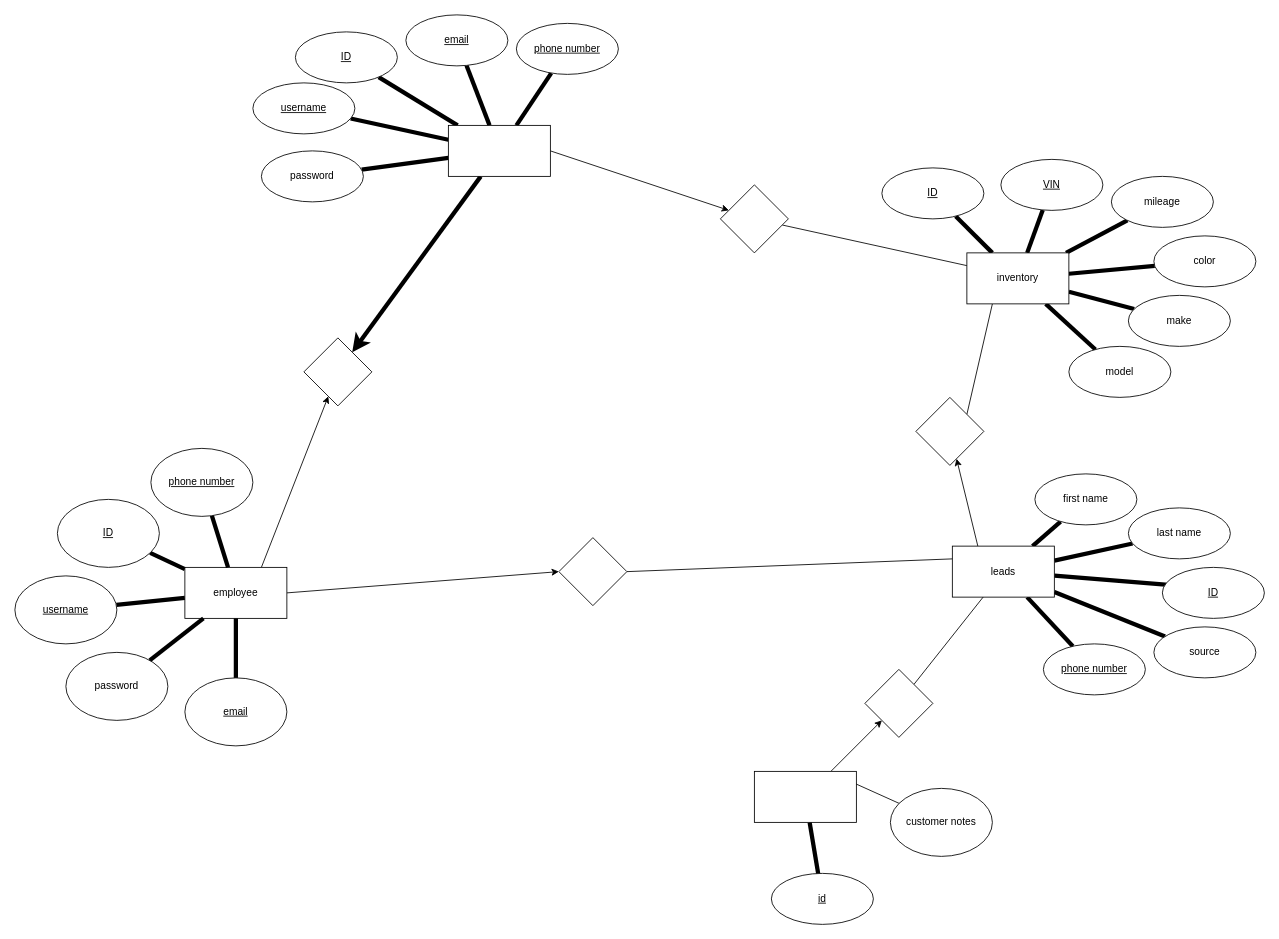
Image size: 1279x939. Some labels were removed from this diagram. Each missing label, with the box of its shape:
authorizes: (303, 337, 372, 406)
creates: (558, 537, 627, 606)
generates: (864, 669, 933, 737)
interested in: (915, 397, 984, 465)
manager: (448, 125, 550, 176)
uploads: (720, 184, 788, 253)
website submission: (754, 771, 856, 822)
